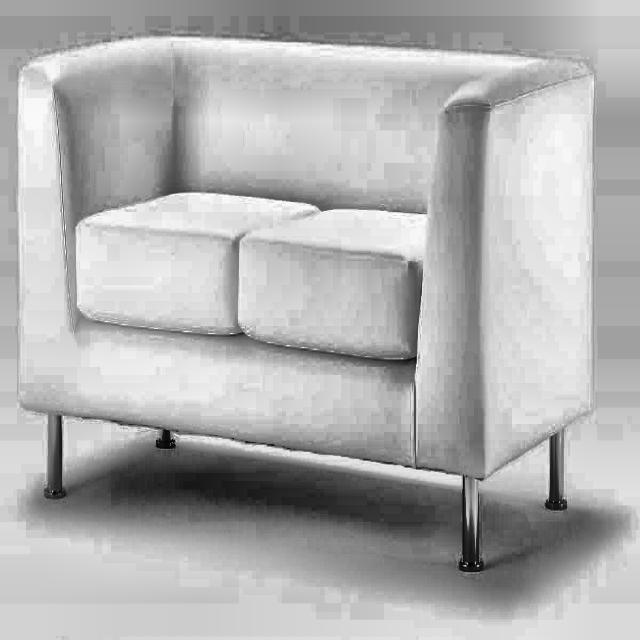sofa: (17, 34, 594, 572)
